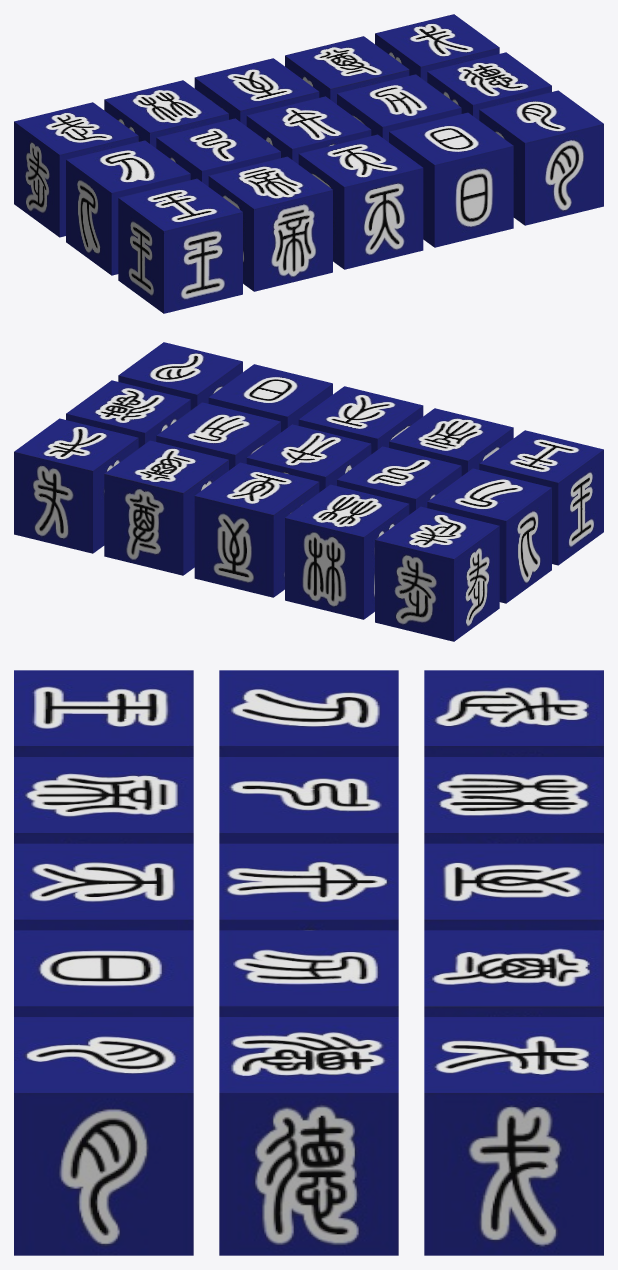
File: fake_kfs.fbx
3 views of the same model, one above another, from view 1: azimuth 30°, elevation 25°; view 2: azimuth 150°, elevation 25°; view 3: azimuth 270°, elevation 25° (orthographic). The views are drawn at different scales.
Visible parts, largest first — view 1: Fake11, Fake13, Fake15, Fake14, Fake12, Fake6, Fake1, Fake10, Fake3, Fake7, Fake8, Fake2 (+3 smaller); view 2: Fake1, Fake3, Fake5, Fake4, Fake2, Fake6, Fake11, Fake10, Fake13, Fake7, Fake8, Fake12 (+3 smaller); view 3: Fake10, Fake15, Fake5, Fake13, Fake3, Fake8, Fake1, Fake11, Fake12, Fake14, Fake2, Fake4 (+3 smaller).
Boxes of the visible parts, x1,y1,x2,y2 form: Fake11: (118,178,242,313); Fake13: (298,134,423,269); Fake15: (479,90,603,225); Fake14: (389,112,513,247); Fake12: (208,156,332,291); Fake6: (66,140,190,275); Fake1: (14,102,138,237); Fake10: (427,52,551,120); Fake3: (194,58,319,126); Fake7: (156,118,280,186); Fake8: (246,96,371,164); Fake2: (104,80,228,147); Fake1: (375,506,499,641); Fake3: (194,462,319,597); Fake5: (14,418,138,553); Fake4: (104,440,228,575); Fake2: (285,484,409,619); Fake6: (427,468,551,603); Fake11: (479,430,603,565); Fake10: (66,380,190,448); Fake13: (298,386,423,454); Fake7: (337,446,461,514); Fake8: (246,424,371,492); Fake12: (389,408,513,475); Fake10: (219,1017,398,1255); Fake15: (14,1017,193,1255); Fake5: (424,1017,603,1255); Fake13: (14,843,193,930); Fake3: (424,843,603,930); Fake8: (219,843,398,930); Fake1: (424,670,603,756); Fake11: (14,670,193,756); Fake12: (14,757,193,843); Fake14: (14,930,193,1016); Fake2: (424,757,603,843); Fake4: (424,930,603,1016).
Bounding box in the file's own units: 195 × 35 × 115.
